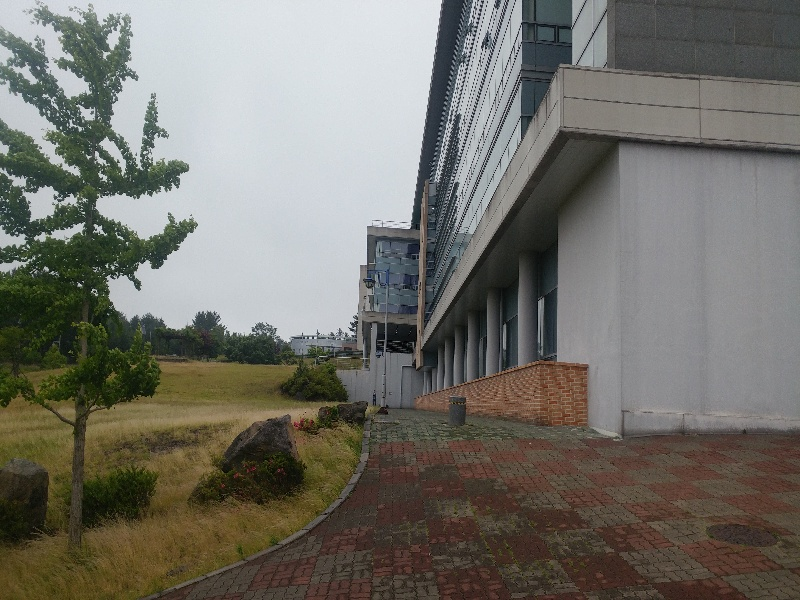College of Marine Science: (290, 335, 354, 357)
Engineering College Building 4: (369, 3, 795, 403), (366, 230, 572, 398), (373, 230, 423, 406)
